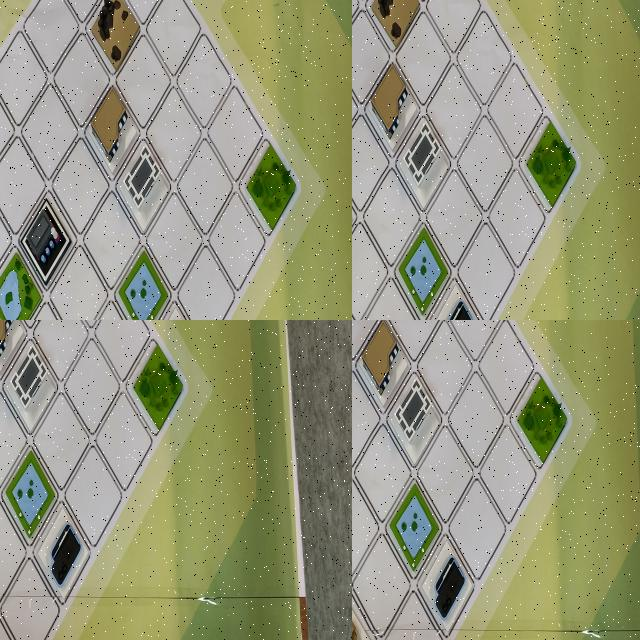bus_stop: (384, 89, 448, 190), (352, 361, 386, 469), (7, 320, 46, 354)
factory: (239, 16, 293, 126), (352, 65, 385, 165), (352, 421, 378, 521), (14, 346, 51, 409)
fish_pool: (492, 56, 556, 155), (381, 481, 441, 577), (0, 50, 52, 149)
forest: (514, 361, 570, 463), (424, 0, 481, 62), (198, 0, 258, 51)
gogo_shop: (126, 205, 201, 320), (435, 152, 495, 255), (419, 530, 474, 636)
research_build: (425, 44, 482, 140), (0, 0, 37, 96), (0, 340, 19, 410)
restaurant: (352, 149, 409, 254), (352, 320, 407, 405), (0, 0, 29, 53)
silicate_rock: (75, 0, 140, 55), (352, 26, 385, 111), (357, 320, 412, 366)
volunteer_center: (386, 359, 441, 462), (385, 8, 439, 110), (18, 0, 79, 54), (18, 402, 54, 458)
wet_land: (293, 84, 352, 185), (352, 107, 385, 213), (352, 479, 383, 581), (0, 408, 20, 482)
